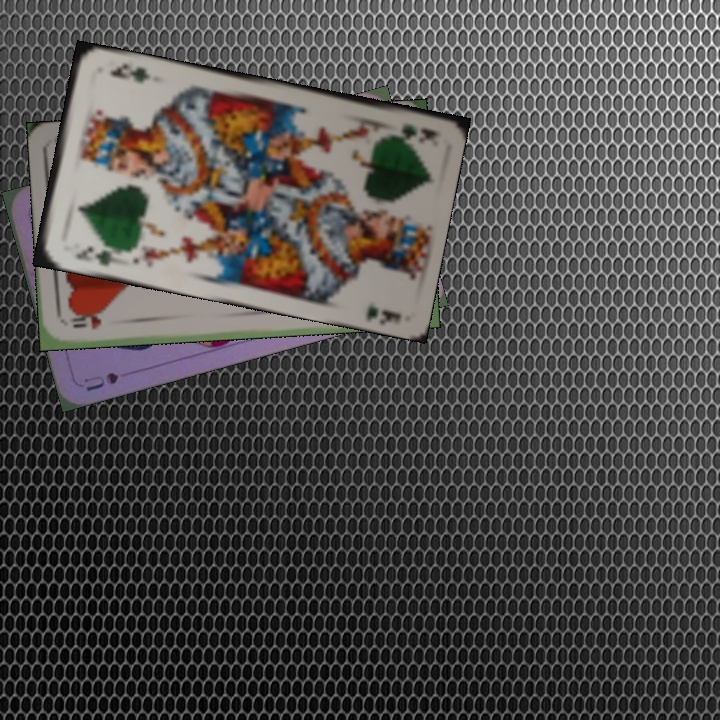GK: (71, 242, 121, 269), (382, 120, 440, 142)
HO: (65, 312, 104, 332)
SU: (80, 368, 121, 394)
